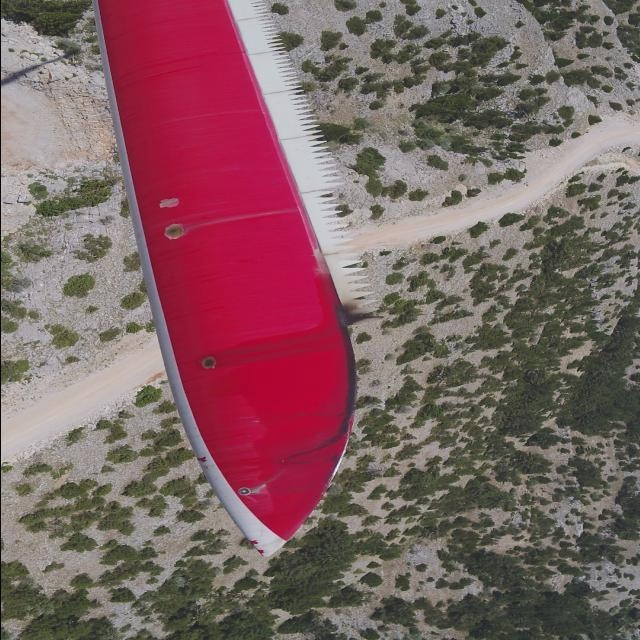Burn Mark: (331, 288, 372, 448)
Coating_defects: (153, 191, 205, 252), (199, 354, 225, 372), (161, 223, 184, 241), (158, 196, 182, 210)
